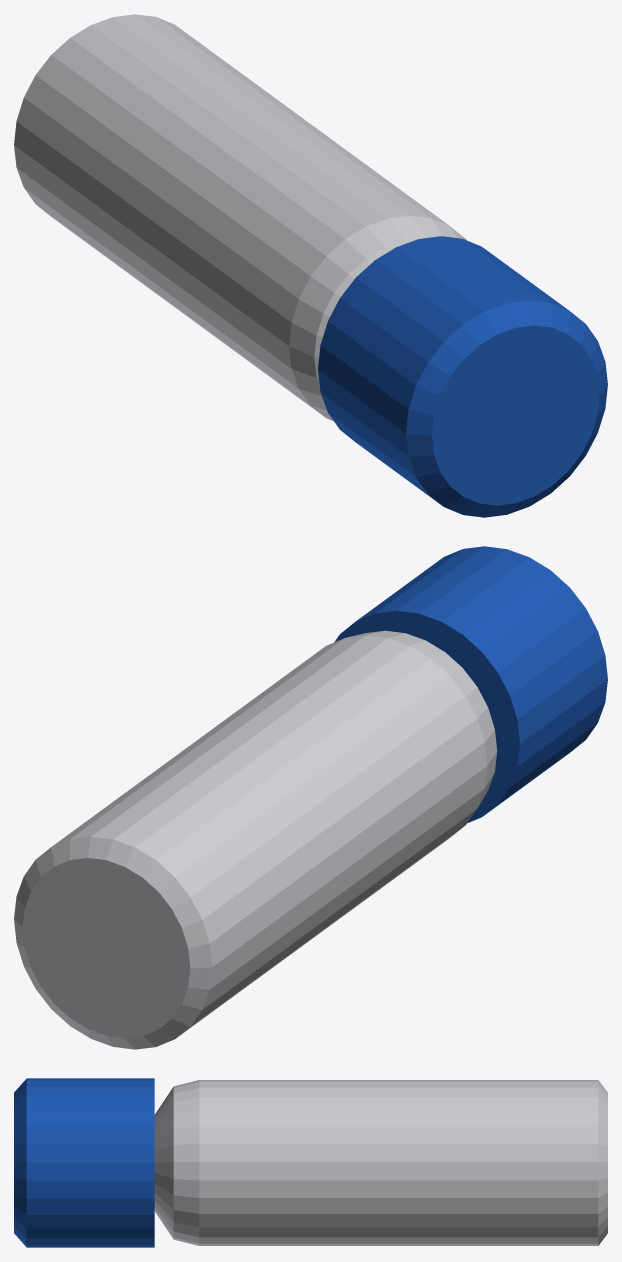
The model's file is desodorante_aerosol.obj.
3 views of the same model, one above another, from view 1: azimuth 30°, elevation 25°; view 2: azimuth 150°, elevation 25°; view 3: azimuth 270°, elevation 25° (orthographic). The views are drawn at different scales.
Visible parts, largest first — view 1: desodorante_aerosol_lata, desodorante_aerosol_tampa; view 2: desodorante_aerosol_lata, desodorante_aerosol_tampa; view 3: desodorante_aerosol_lata, desodorante_aerosol_tampa.
Boxes of the visible parts, x1,y1,x2,y2 form: desodorante_aerosol_lata: (14,14,466,421); desodorante_aerosol_tampa: (318,236,607,517); desodorante_aerosol_lata: (14,630,497,1049); desodorante_aerosol_tampa: (334,546,607,822); desodorante_aerosol_lata: (154,1080,607,1245); desodorante_aerosol_tampa: (14,1078,154,1247).
Size of the model in its own units: 53 by 53 by 186.
